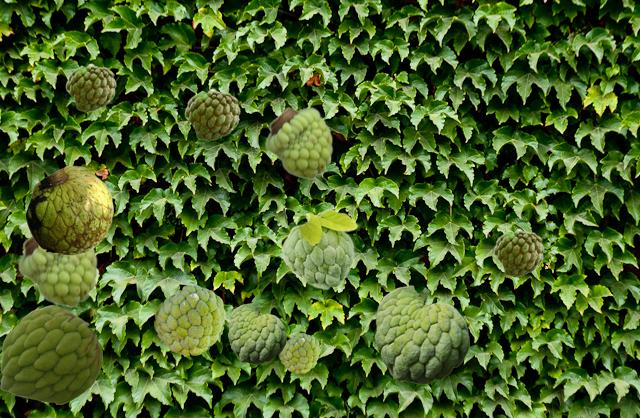atis: (0, 305, 101, 403), (375, 285, 468, 383), (25, 165, 112, 254), (281, 208, 357, 289), (18, 235, 97, 307), (265, 106, 332, 179), (154, 285, 224, 354), (228, 303, 285, 363), (184, 88, 239, 140), (65, 63, 115, 111), (493, 228, 543, 276), (279, 333, 319, 372)
